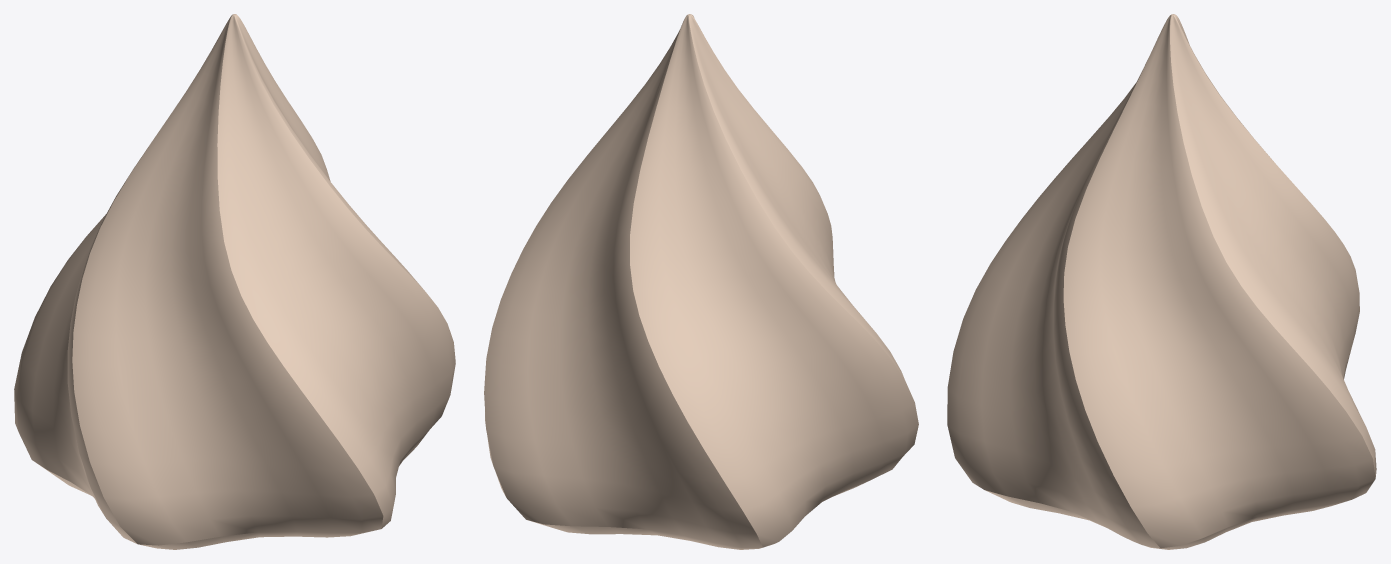
File: cakeDecorPinkChocolateONE.glb
The picture shows the model from 3 angles, left to right: view 1: azimuth 30°, elevation 25°; view 2: azimuth 150°, elevation 25°; view 3: azimuth 270°, elevation 25°; orthographic projection.
Visible parts, largest first — view 1: Star.027; view 2: Star.027; view 3: Star.027.
Boxes of the visible parts, bbox=[...] form: Star.027: bbox=[14, 14, 455, 549]; Star.027: bbox=[484, 14, 918, 549]; Star.027: bbox=[947, 14, 1376, 549].
Bounding box in the file's own units: 0.4575 × 0.5441 × 0.451.
